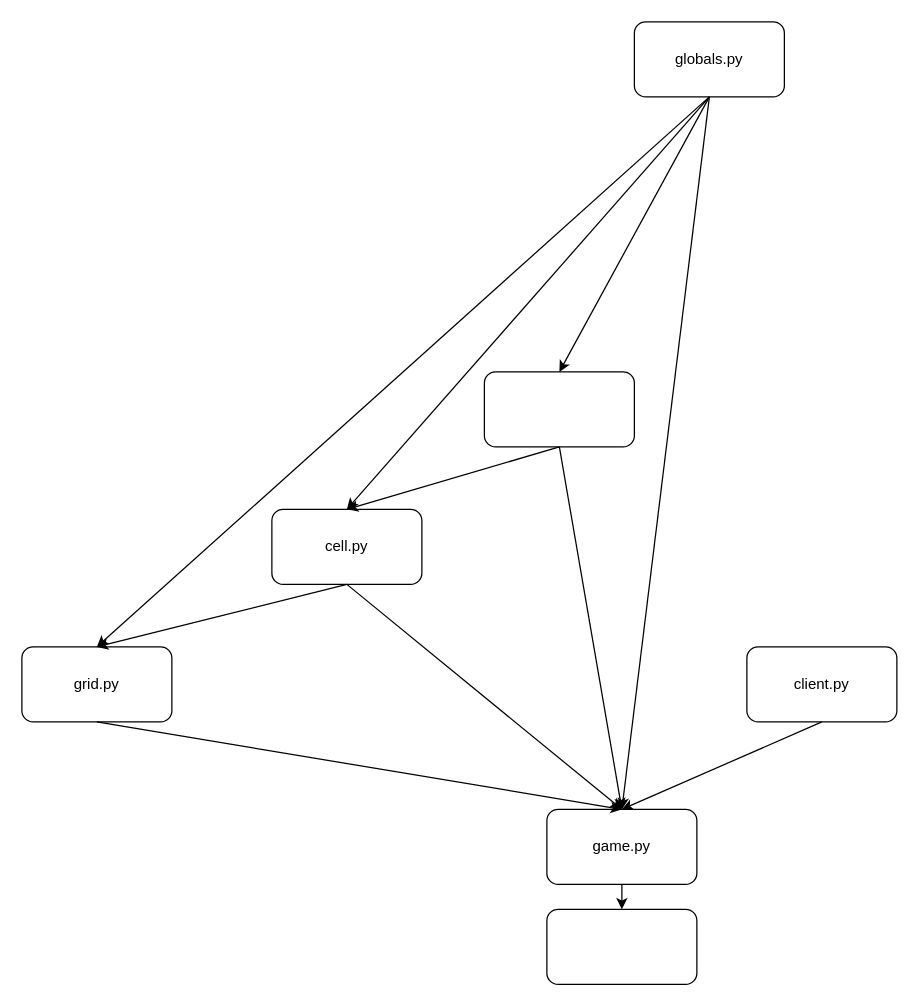
Image size: 919x1006. Some labels were removed from this diagram. Here are the shapes that lost their labels. From the top down, the box of each, then its label:
(483, 371, 634, 447): sprites.py
(546, 908, 697, 984): main.py
